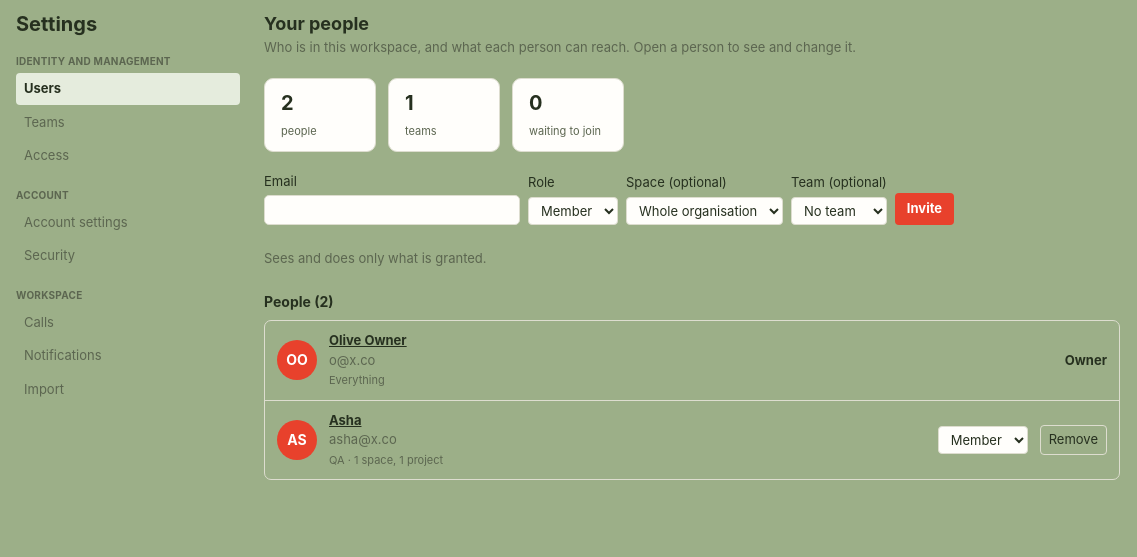
a person's page › lists nothing for the Owner, who reaches everything, and says why
The width and height of the screenshot is (1137, 557).
Step 1. Click the button "Olive Owner" → {"x": 368, "y": 341}, box x1=329 y1=331 x2=407 y2=350
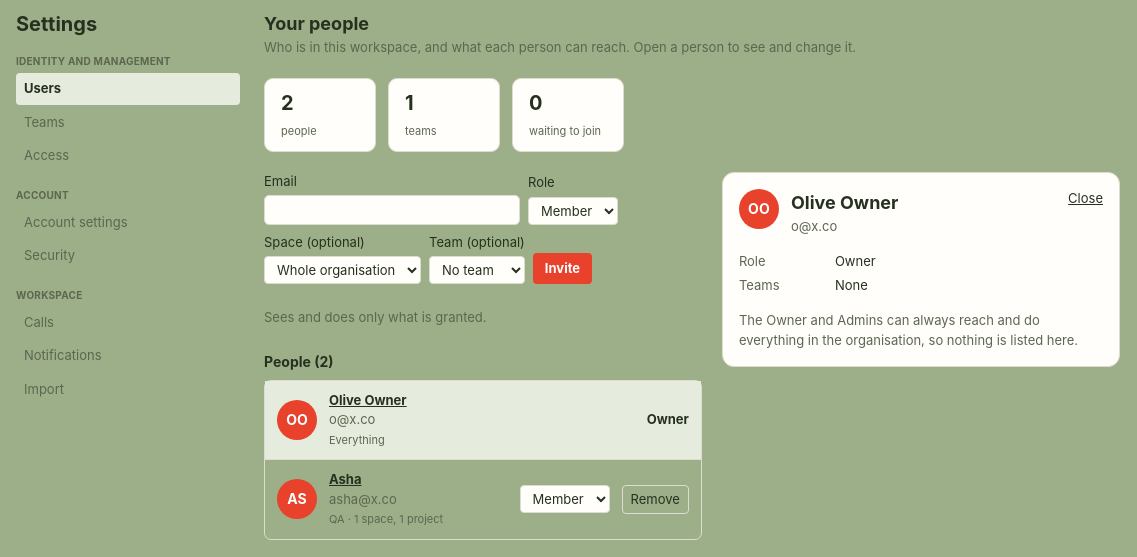
Expected: the element that starts with "Your people" shows "can always reach and do everything", x1=739 y1=312 x2=1078 y2=348
